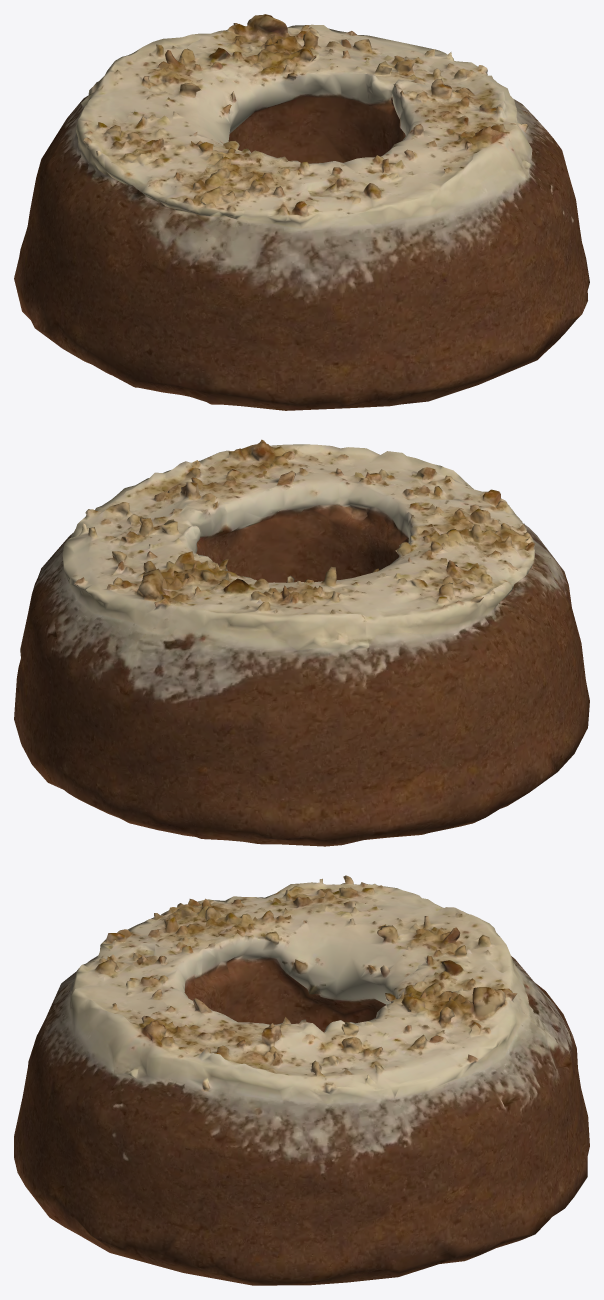
The model's file is carrot_cake.glb.
3 views of the same model, one above another, from view 1: azimuth 30°, elevation 25°; view 2: azimuth 150°, elevation 25°; view 3: azimuth 270°, elevation 25° (orthographic). The views are drawn at different scales.
Parts seen in each view (by area): view 1: carrot_cake; view 2: carrot_cake; view 3: carrot_cake.
Part boxes in pixels (x1=…): carrot_cake: x1=14, y1=14, x2=589, y2=410; carrot_cake: x1=14, y1=439, x2=589, y2=846; carrot_cake: x1=14, y1=875, x2=589, y2=1285.
Bounding box in the file's own units: 0.2254 × 0.0976 × 0.2254.
Materials: 1 (1 with a texture image).
